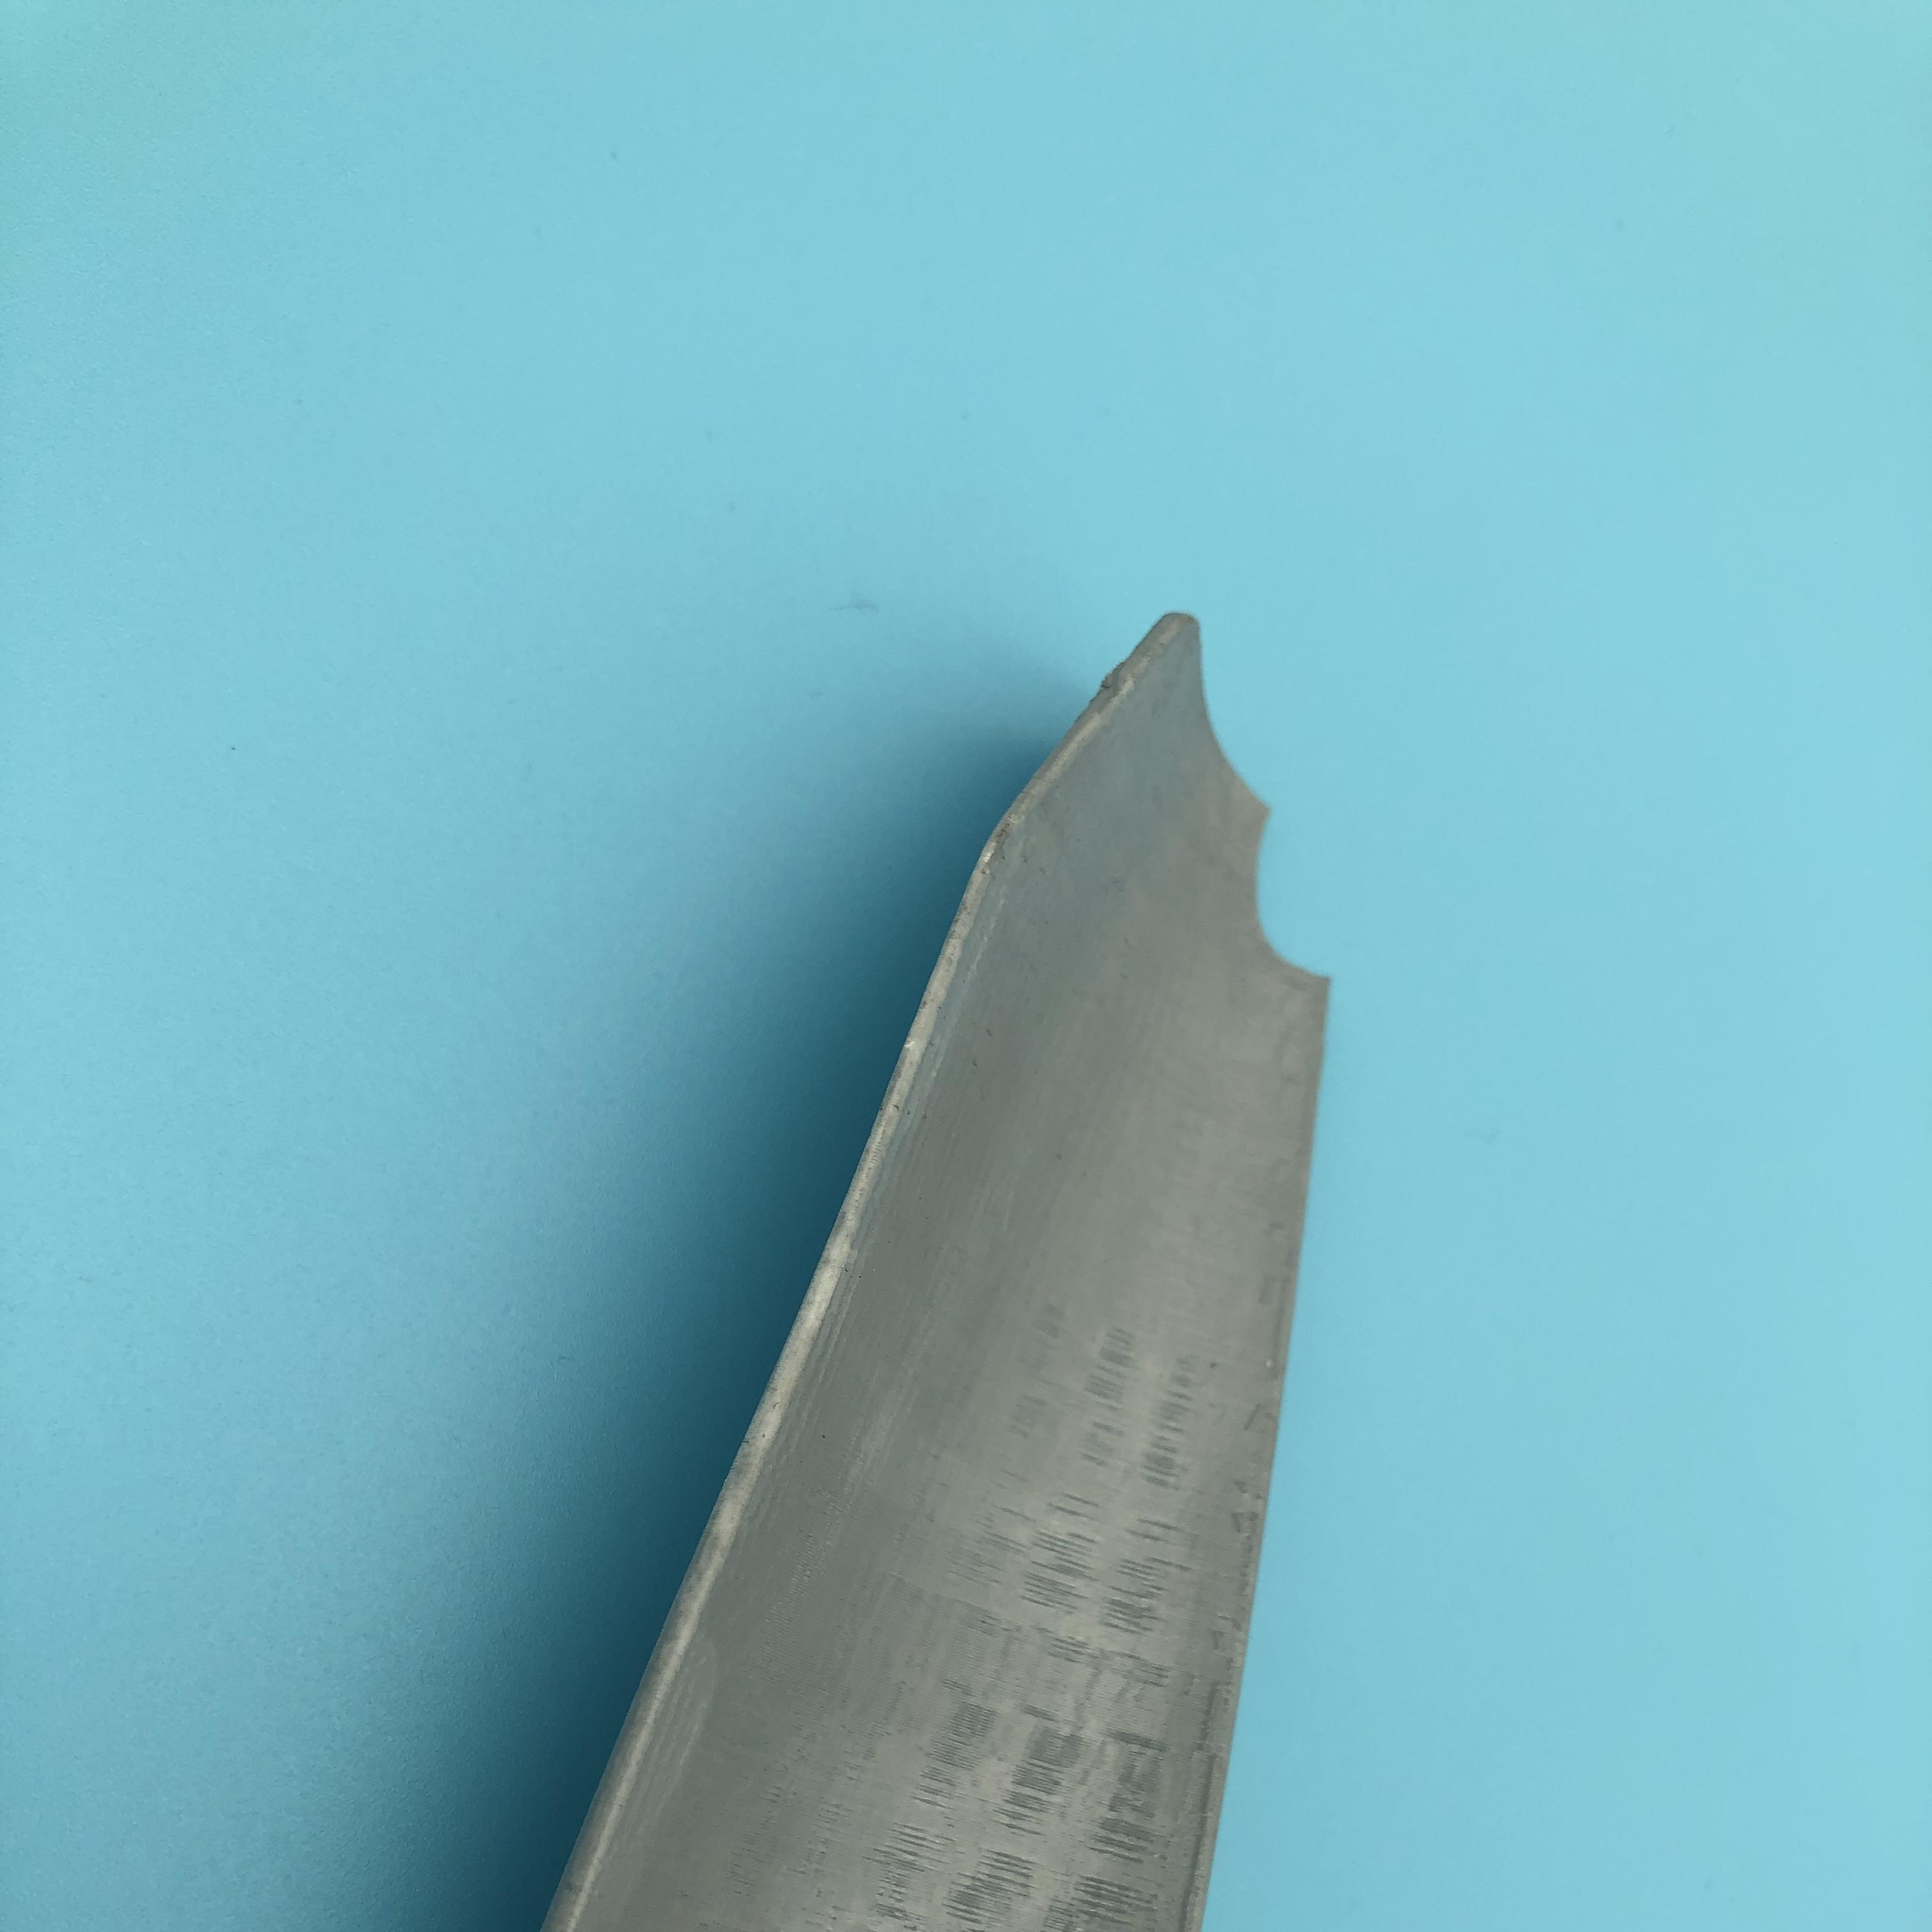fracture: (1166, 633, 1353, 991)
